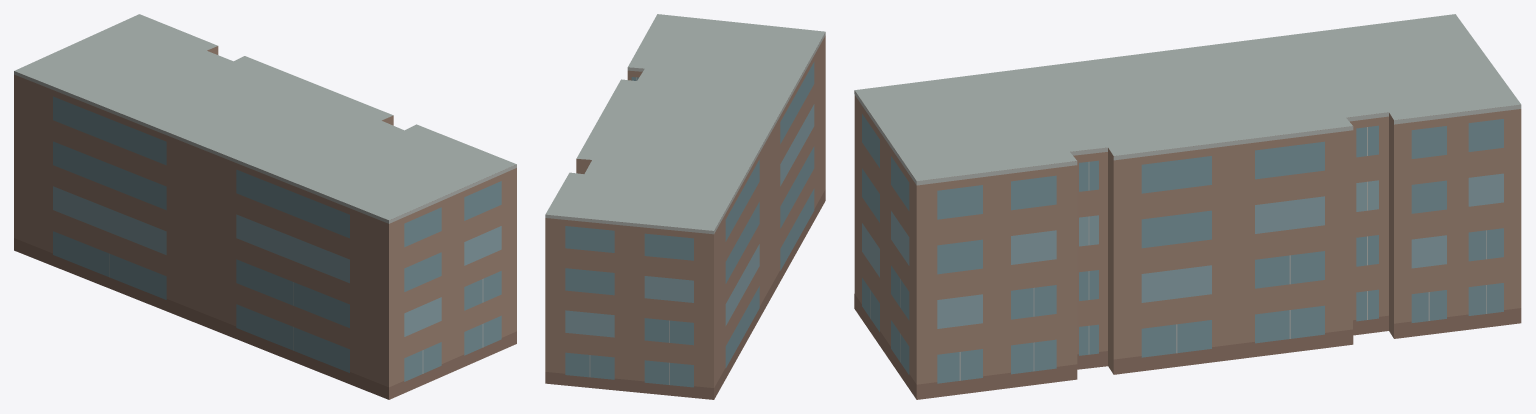
Rendered from survey-upis-32622385.glb.
3 renders of one model, left to right at view 1: azimuth 30°, elevation 25°; view 2: azimuth 150°, elevation 25°; view 3: azimuth 270°, elevation 25°, orthographic. The views are drawn at different scales.
Parts seen in each view (by area): view 1: survey-upis-32622385.tmp; view 2: survey-upis-32622385.tmp; view 3: survey-upis-32622385.tmp.
Boxes of the visible parts, <box> form: survey-upis-32622385.tmp: <box>14,14,516,399</box>; survey-upis-32622385.tmp: <box>545,14,825,399</box>; survey-upis-32622385.tmp: <box>854,14,1521,399</box>.
Size of the model in its own units: 20.35 by 12.4 by 34.28.
